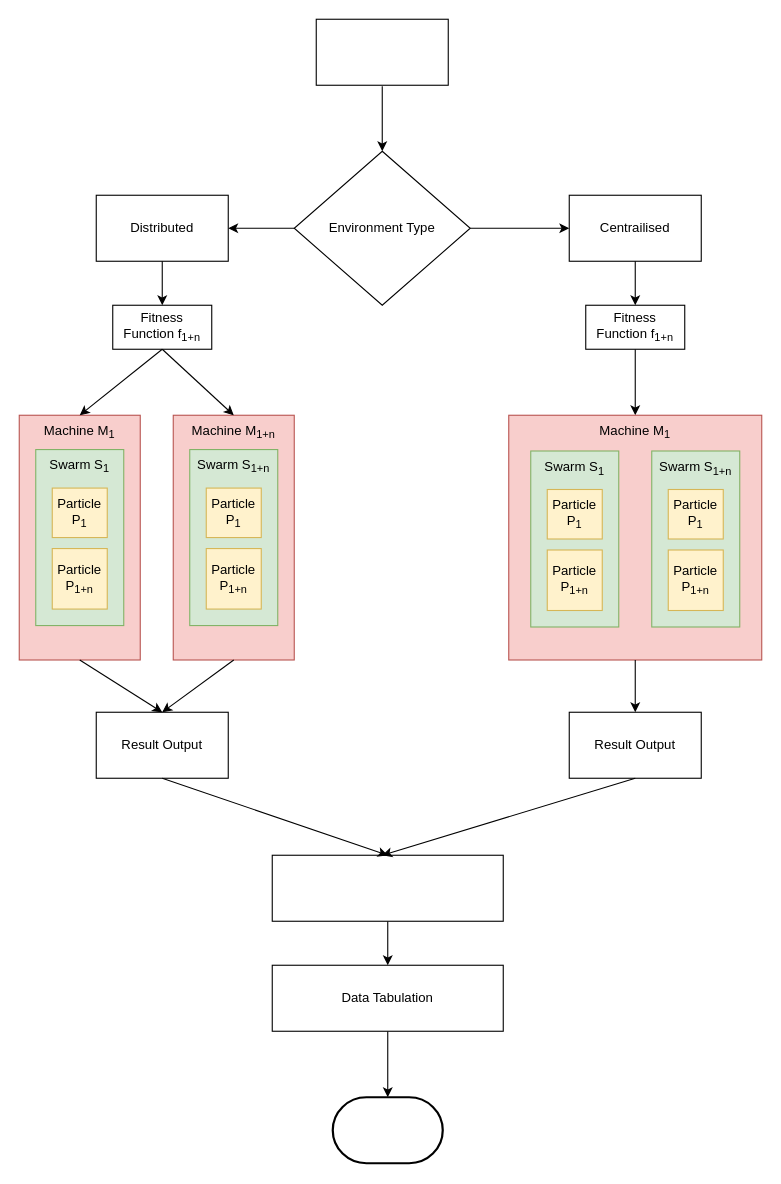
This 781x1184 diagram has some shape labels left out. Each missing label, with the centre of its shape:
Result Aggregator/Data Loader: [387,887]
Start: [381,51]
Stop: [387,1130]
